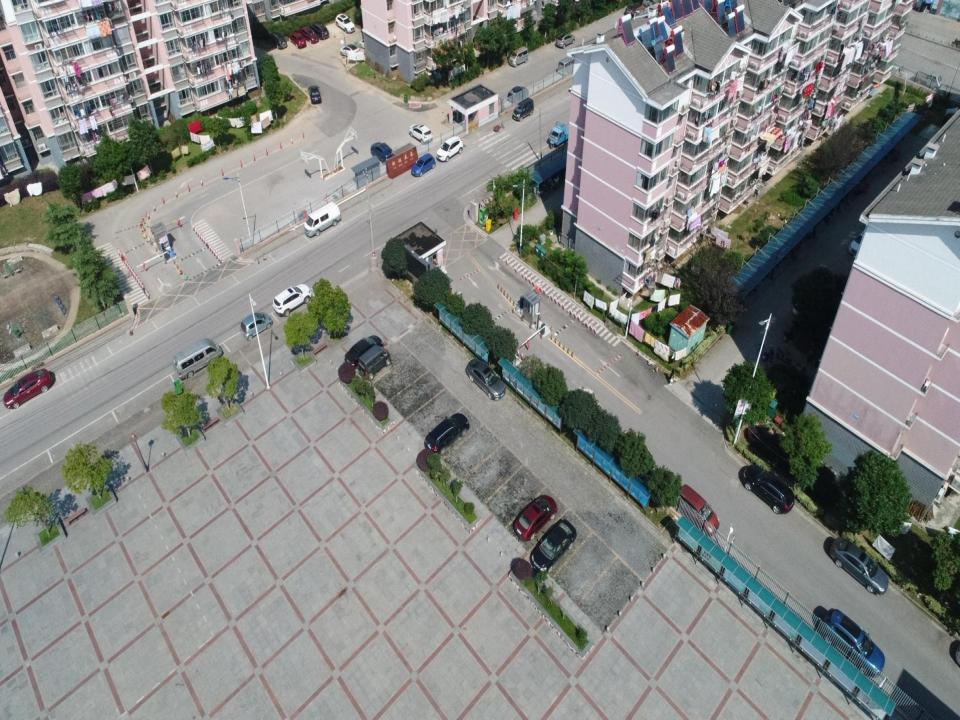car: (822, 608, 885, 678), (829, 536, 889, 596), (742, 462, 794, 515), (529, 518, 577, 574), (675, 484, 720, 538), (512, 494, 558, 542), (3, 368, 51, 410), (424, 413, 470, 454), (466, 357, 506, 401), (344, 335, 384, 370), (272, 283, 312, 317), (847, 226, 882, 258), (240, 312, 273, 342), (435, 136, 464, 163), (410, 153, 436, 176), (409, 123, 433, 145), (370, 142, 395, 163), (335, 12, 356, 34), (554, 31, 576, 50), (300, 24, 319, 45), (507, 85, 529, 103), (288, 30, 306, 50), (270, 29, 287, 50), (314, 21, 330, 41), (339, 44, 361, 58), (308, 85, 322, 106)
van: (172, 337, 223, 379), (304, 201, 341, 238), (357, 345, 391, 380), (512, 97, 534, 121), (509, 46, 529, 68), (556, 56, 576, 75)
